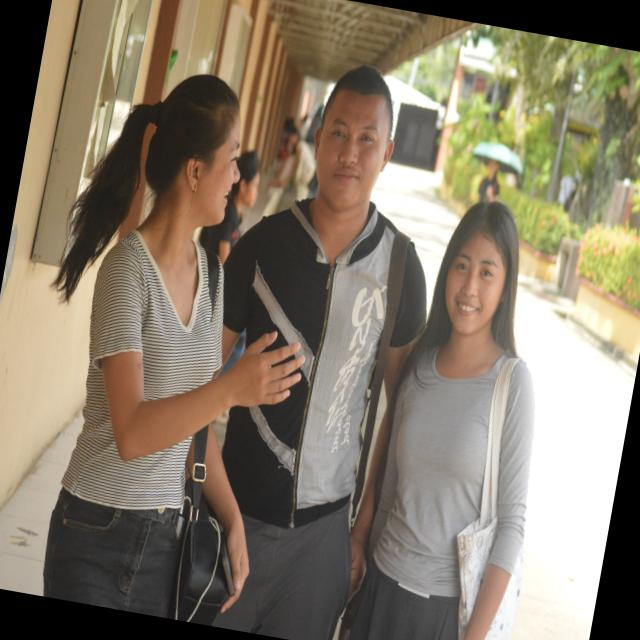person: (43, 75, 302, 616), (214, 66, 395, 639), (349, 202, 518, 639), (199, 151, 259, 263), (478, 160, 498, 202)
